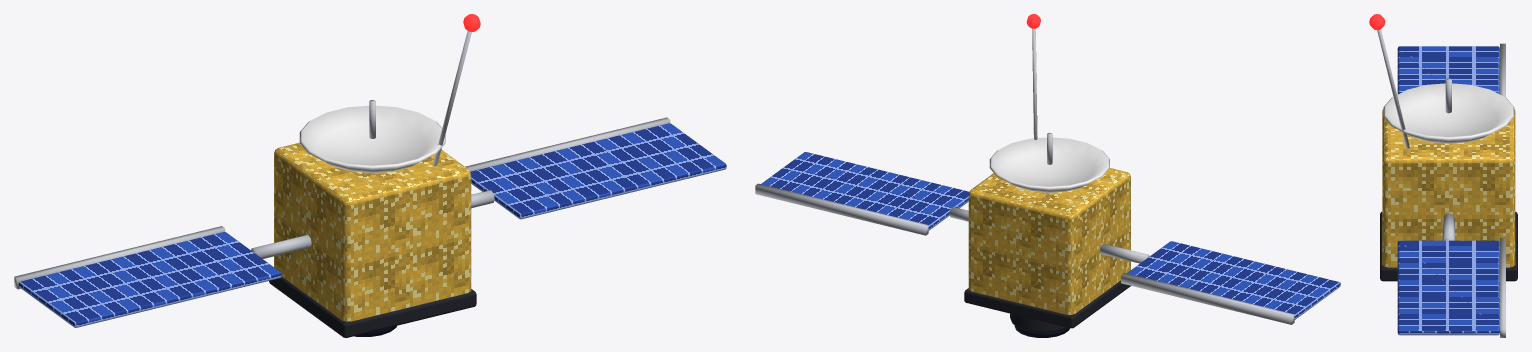
The model's file is x_satellite.glb.
3 renders of one model, left to right at view 1: azimuth 30°, elevation 25°; view 2: azimuth 150°, elevation 25°; view 3: azimuth 270°, elevation 25°, orthographic. The views are drawn at different scales.
Parts seen in each view (by area): view 1: sat; view 2: sat; view 3: sat.
Part boxes in pixels (box(x1,y1,x2,y2)): sat: box(14, 14, 726, 337); sat: box(755, 14, 1340, 337); sat: box(1369, 14, 1517, 337).
Bounding box in the file's own units: 1.32 × 0.6448 × 0.291.
Materials: 7 (2 with a texture image).
